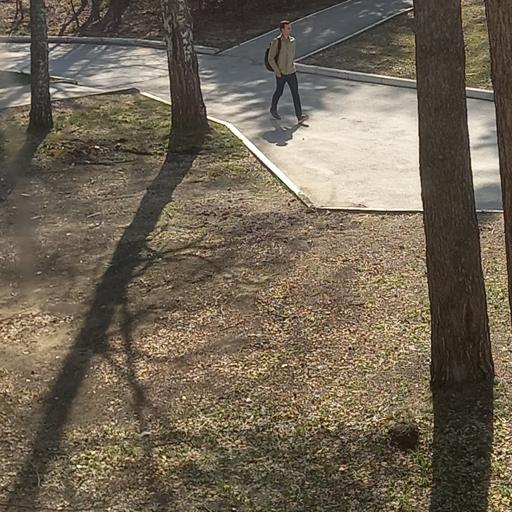Humans.Hardhats.Safetyvests: (257, 18, 321, 129)
